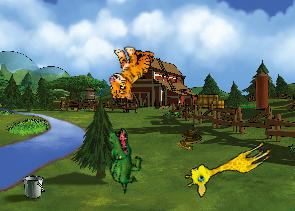crocodile: (92, 125, 153, 194)
giraffe: (181, 130, 274, 200)
tiger: (108, 45, 154, 100)
